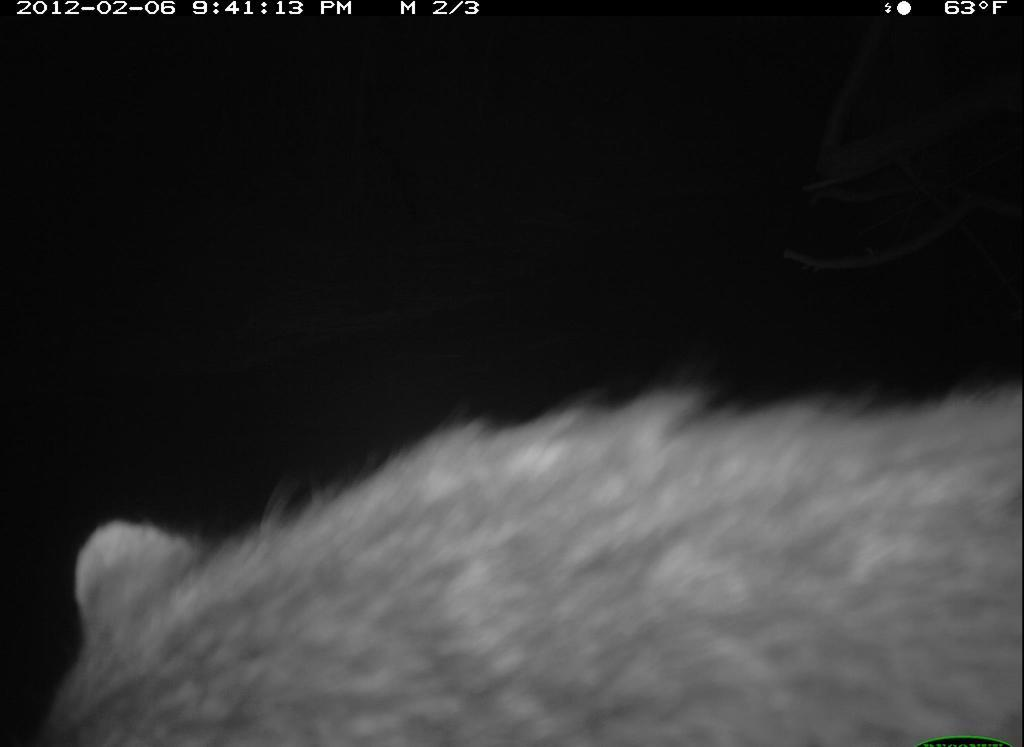raccoon: (41, 373, 1022, 740)
